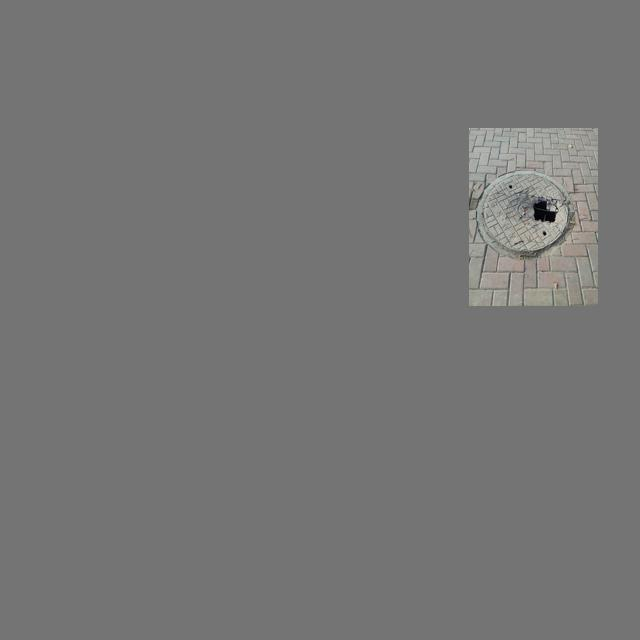broke: (475, 166, 579, 260)
